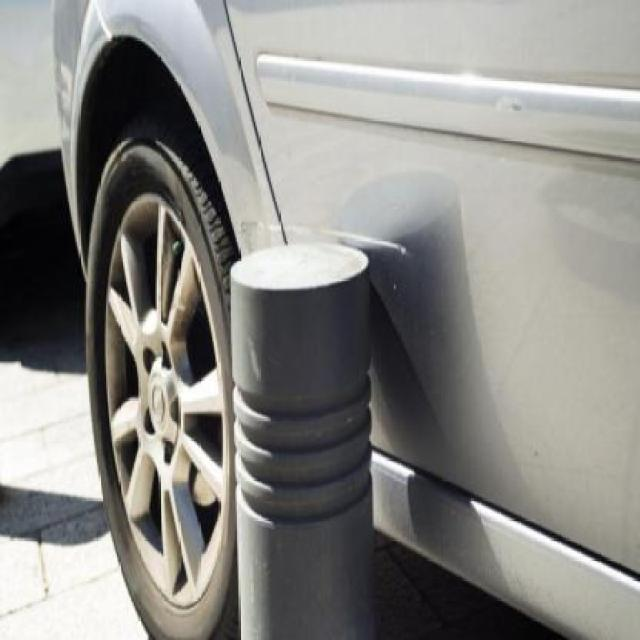scratch: (230, 198, 429, 270)
